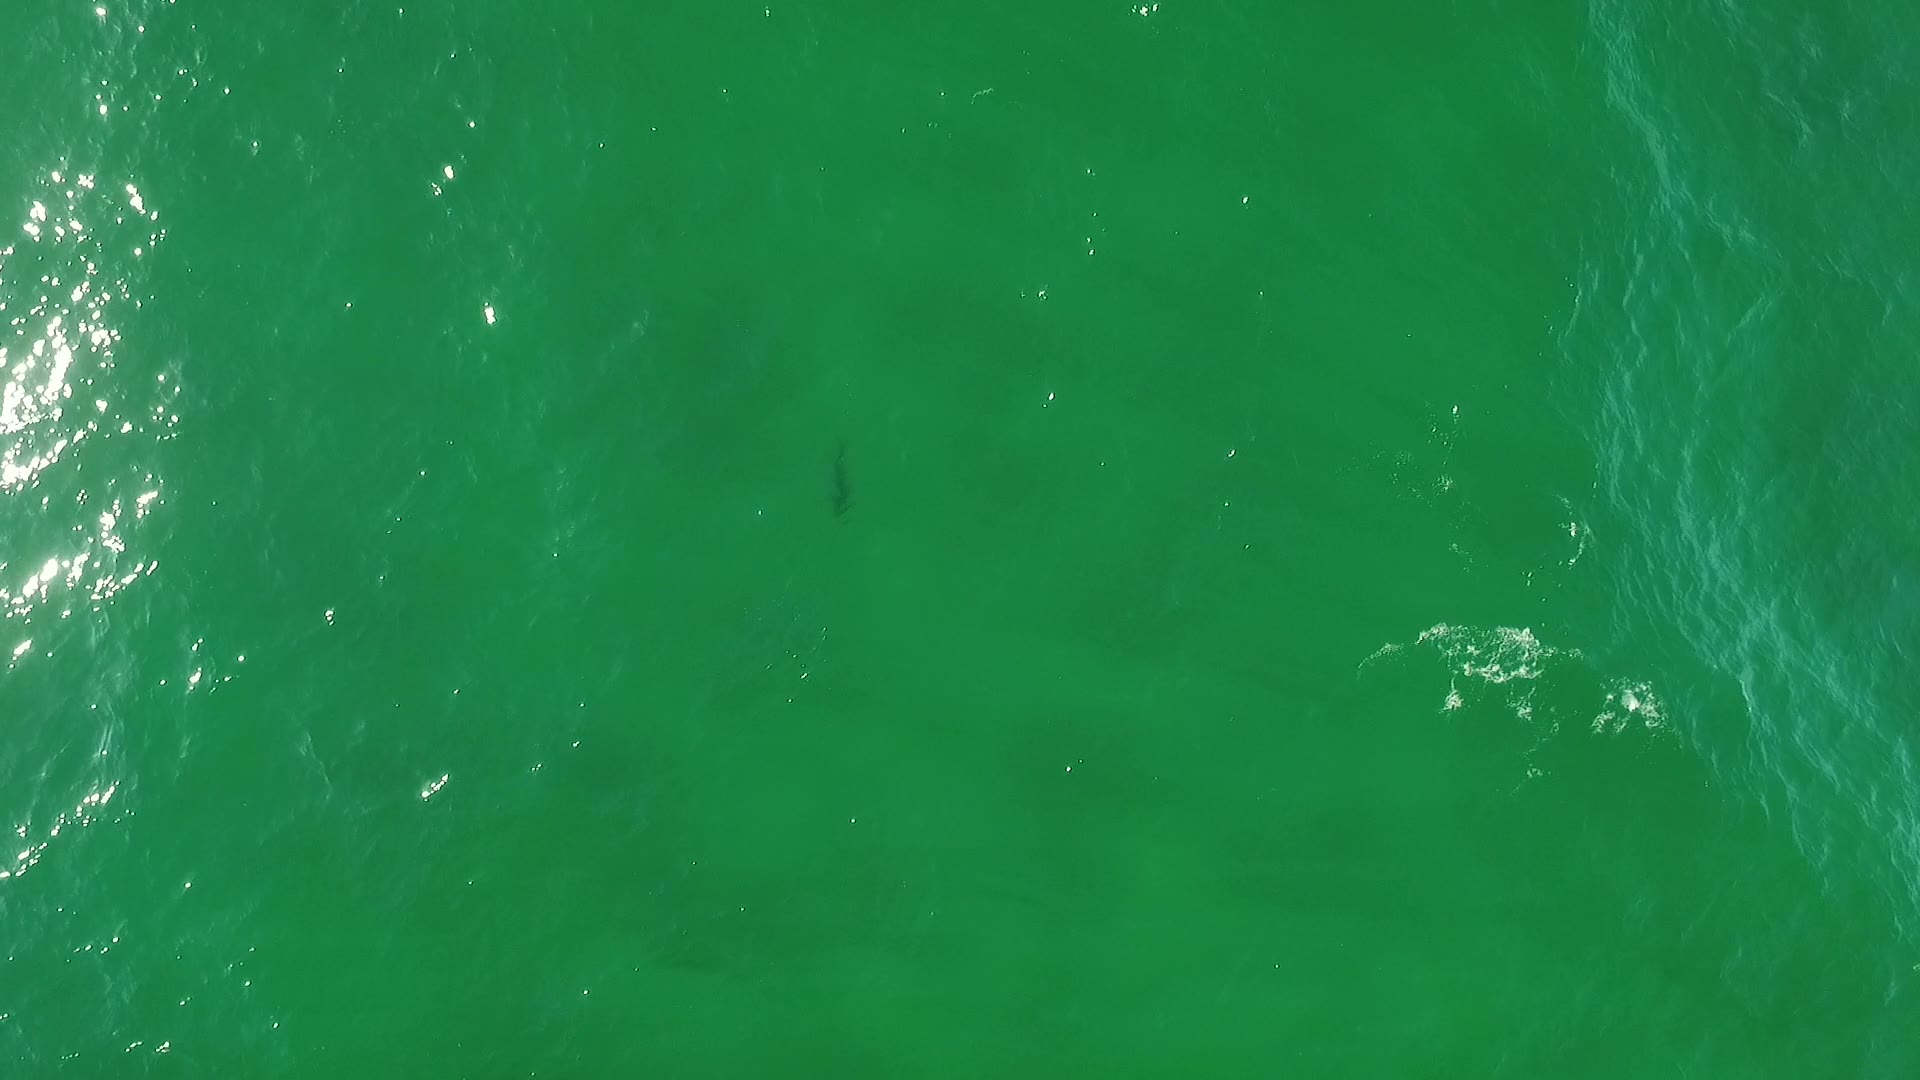shark: (819, 440, 861, 526)
